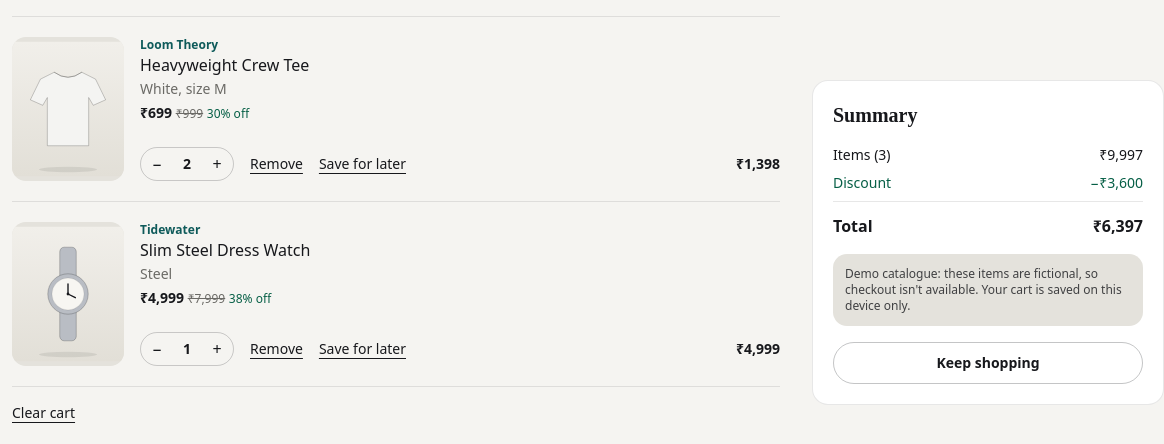
Test case: cart page › clear cart asks for confirmation first
Check: the link "Heavyweight Crew Tee" is shown, box x1=140 y1=54 x2=309 y2=76
Click the button "Clear cart" at (44, 413), box x1=12 y1=403 x2=75 y2=423
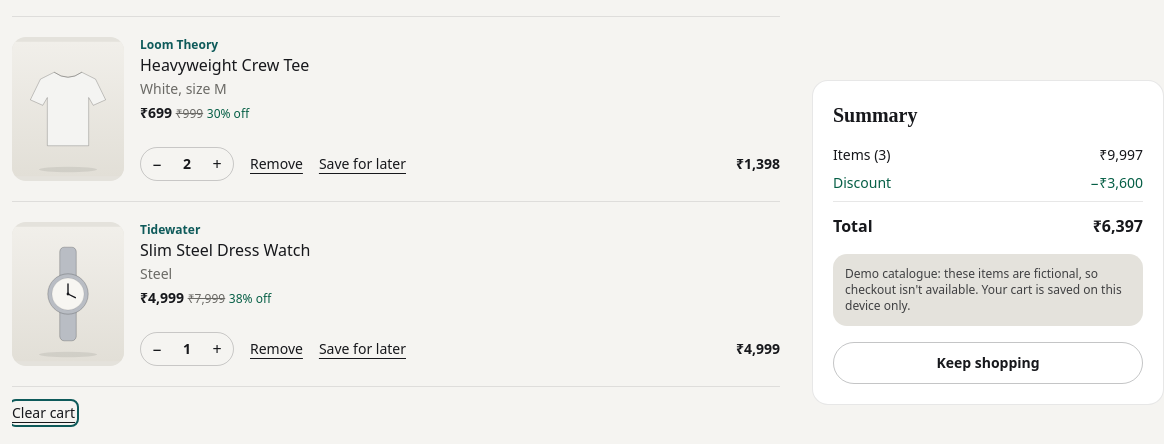
Click the button "Clear cart" at (44, 413), box x1=12 y1=403 x2=75 y2=423
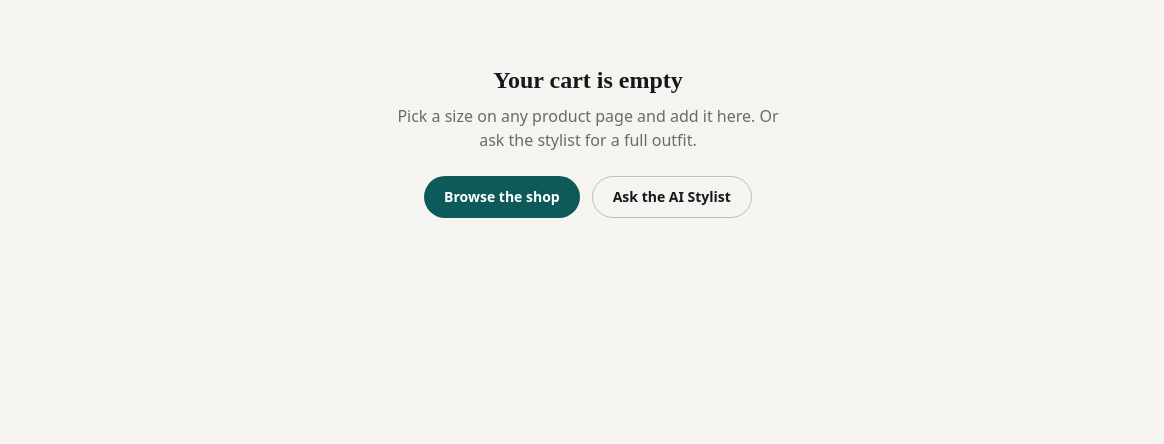
Check: the text "Your cart is empty" is shown, box x1=493 y1=67 x2=683 y2=93
